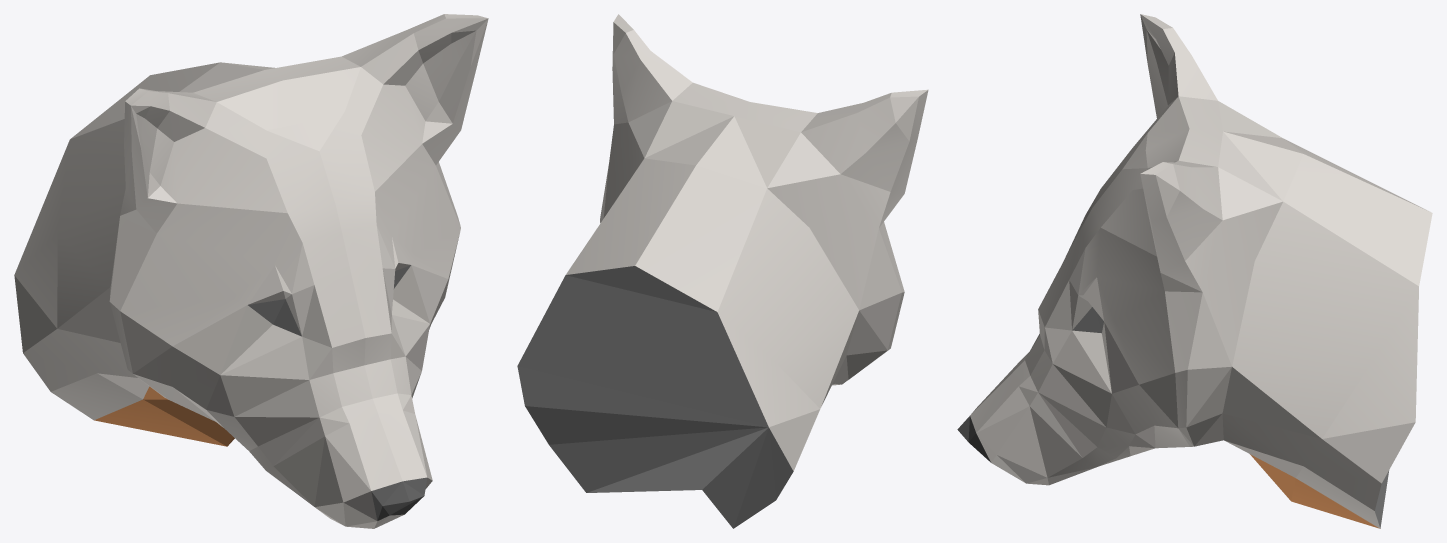
Rendered from Fox_head.fbx.
The picture shows the model from 3 angles, left to right: view 1: azimuth 30°, elevation 25°; view 2: azimuth 150°, elevation 25°; view 3: azimuth 270°, elevation 25°; orthographic projection. The views are drawn at different scales.
Parts seen in each view (by area): view 1: FoxTest9; view 2: FoxTest9; view 3: FoxTest9.
Boxes of the visible parts, x1,y1,x2,y2 form: FoxTest9: (14, 14, 488, 528); FoxTest9: (517, 14, 928, 528); FoxTest9: (957, 14, 1432, 528).
Size of the model in its own units: 0.7812 by 0.9288 by 0.9817.
